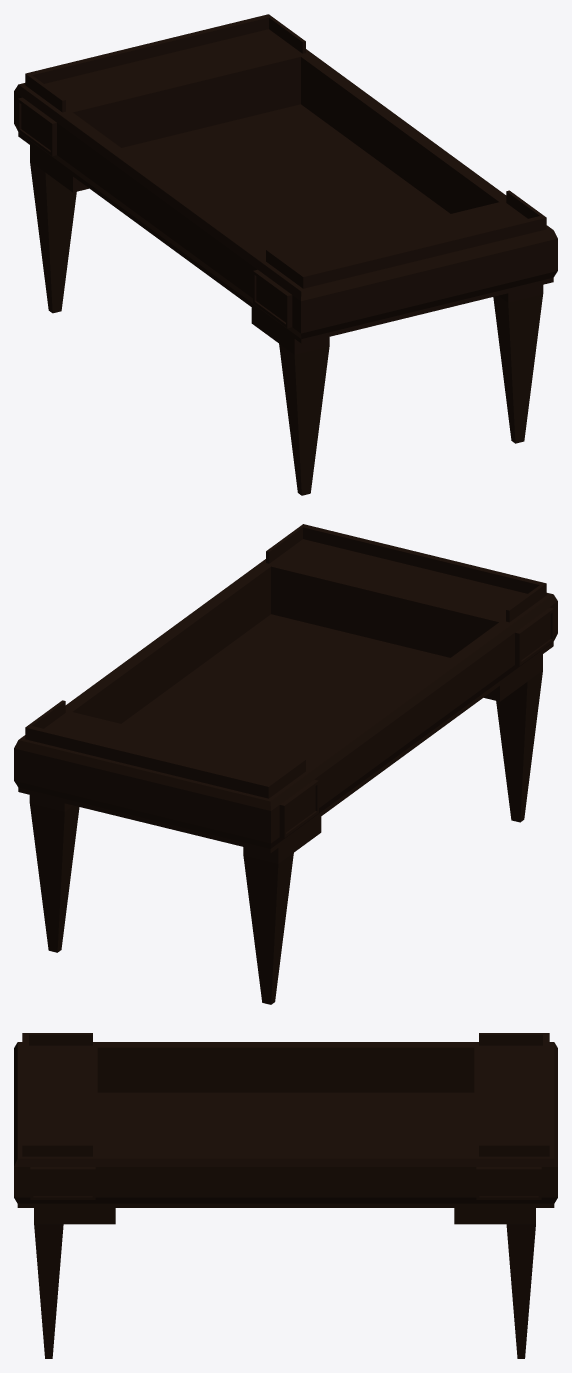
Rendered from Table_2.FBX.
3 renders of one model, top to bottom at view 1: azimuth 30°, elevation 25°; view 2: azimuth 150°, elevation 25°; view 3: azimuth 270°, elevation 25°, orthographic. The views are drawn at different scales.
Parts seen in each view (by area): view 1: Box001; view 2: Box001; view 3: Box001.
Boxes of the visible parts, box(x1,y1,x2,y2) form: Box001: box(14, 14, 557, 495); Box001: box(14, 524, 557, 1004); Box001: box(14, 1033, 557, 1358).
Size of the model in its own units: 21.29 by 17.55 by 39.67.
